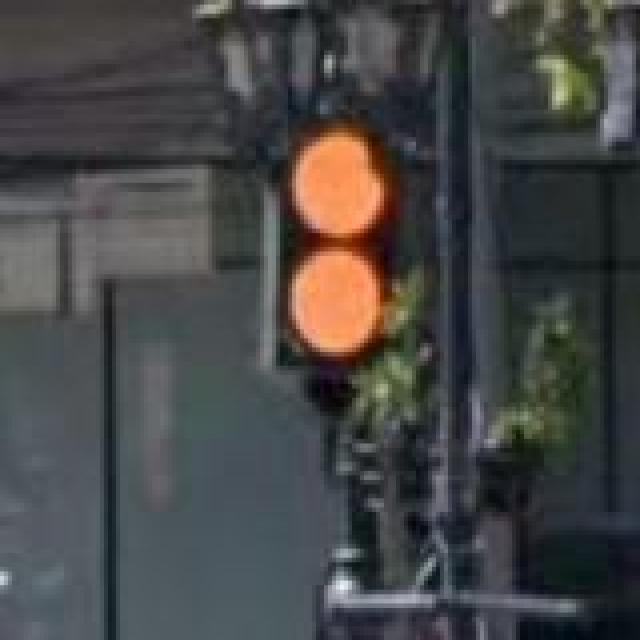yellow_light: (280, 110, 404, 375)
